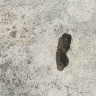Dog: (57, 33, 71, 68)
